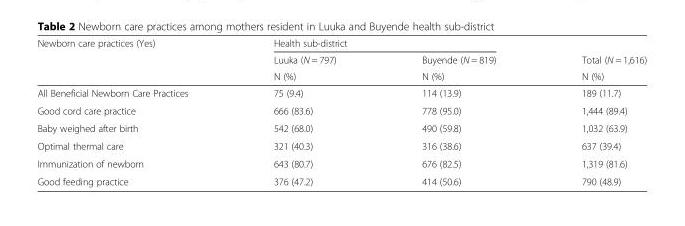table: (36, 37, 646, 186)
table column: (36, 37, 230, 186), (378, 37, 538, 186), (230, 37, 378, 186), (538, 37, 646, 186)
table column header: (36, 37, 646, 84)
table row: (36, 101, 646, 119), (36, 136, 646, 154), (36, 154, 646, 172), (36, 50, 646, 67), (36, 67, 646, 84), (36, 84, 646, 101), (36, 119, 646, 136), (36, 172, 646, 186), (36, 37, 646, 50)
table spanning cell: (36, 37, 230, 84), (378, 50, 538, 84), (538, 37, 646, 84), (230, 50, 378, 84), (230, 37, 538, 50)
